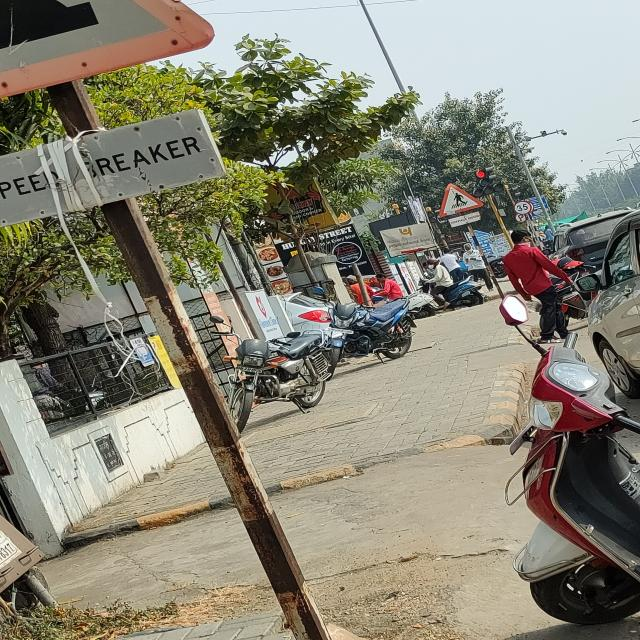horn_prohibited: (0, 0, 210, 95)
